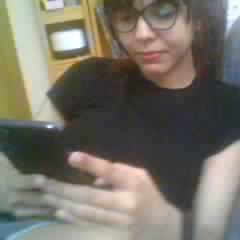without_mask: (107, 1, 195, 76)
